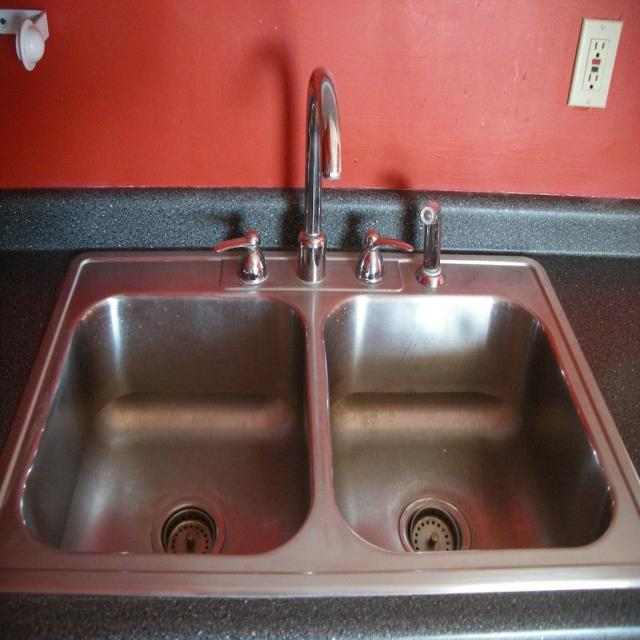Metal: (21, 57, 638, 595)
